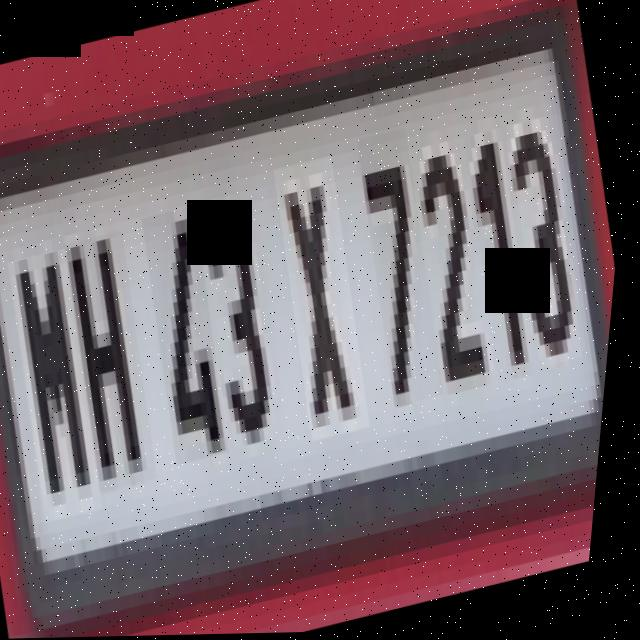1: (449, 130, 560, 387)
3: (187, 198, 302, 450), (492, 117, 606, 370)
4: (128, 204, 255, 467)
7: (340, 128, 471, 409)
H: (51, 230, 184, 493)
M: (0, 247, 130, 524)
X: (258, 155, 397, 443)
